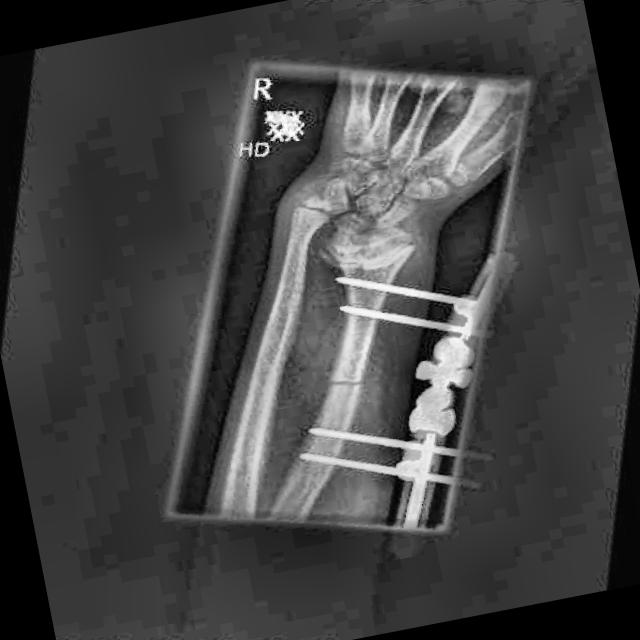fingers positive: (275, 189, 445, 279), (299, 350, 383, 408)
